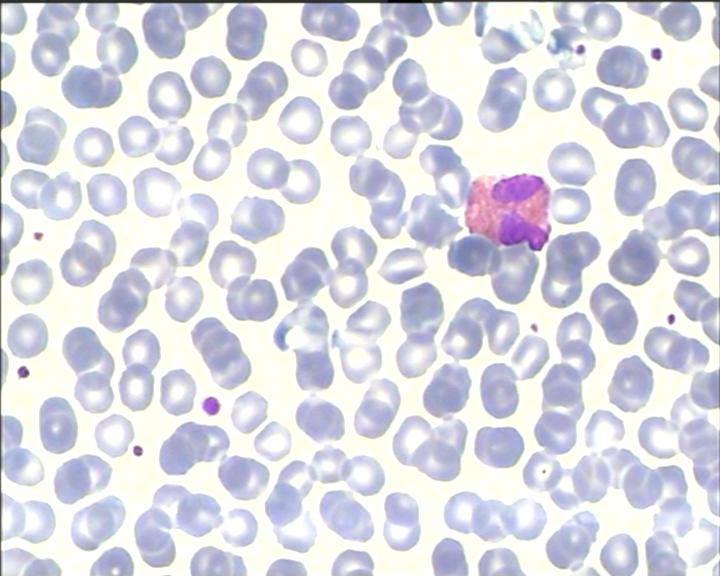eosi: (459, 170, 553, 255)
